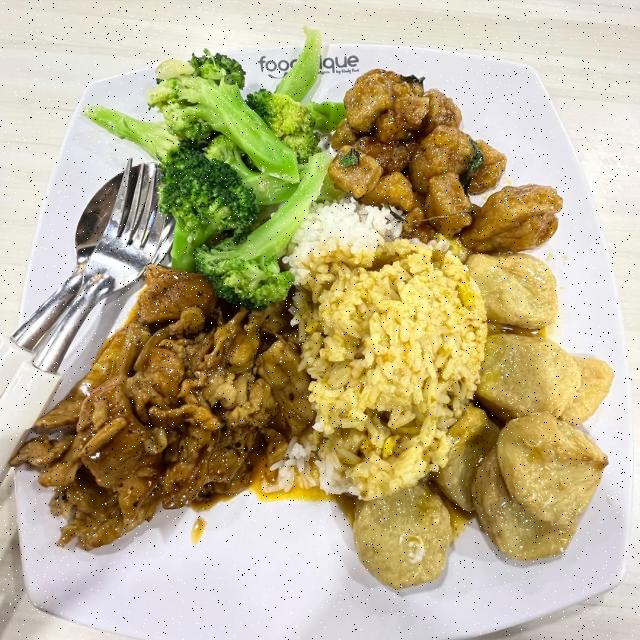Chicken: (329, 69, 562, 254)
Green veg: (83, 28, 344, 308)
Pork: (11, 270, 313, 549)
Rice: (270, 201, 487, 501)
Tofu: (353, 254, 612, 590)
